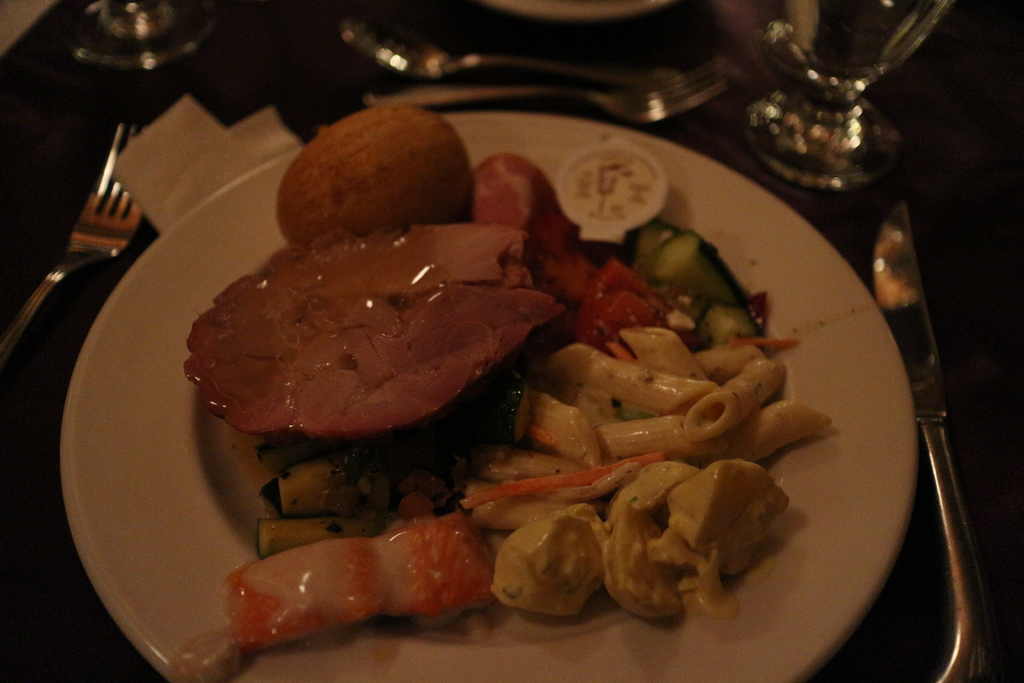pasta: (161, 152, 840, 624)
